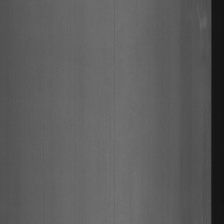silk_spot: (192, 5, 209, 36)
